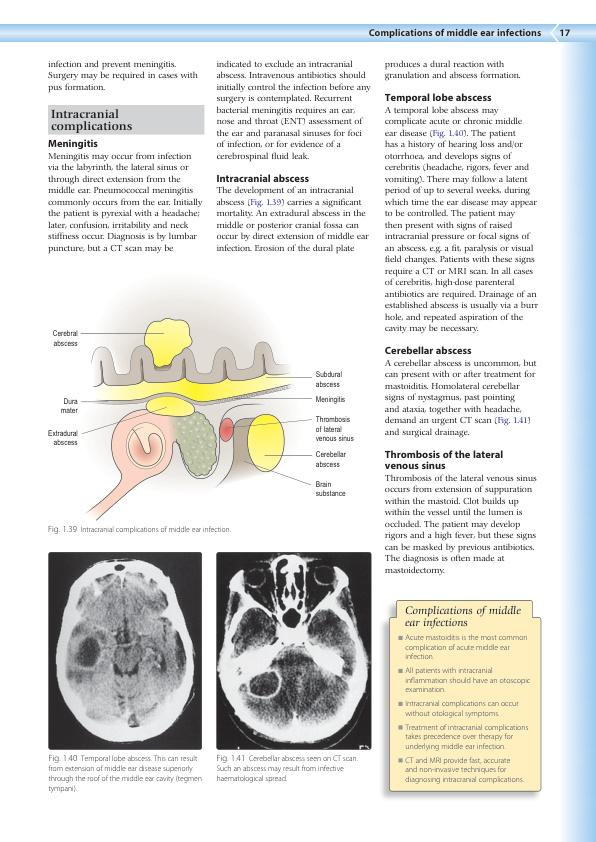caption: (47, 754, 203, 794), (216, 754, 359, 785), (404, 605, 522, 630), (47, 525, 232, 535)
header: (368, 28, 542, 40)
image: (41, 262, 365, 522), (47, 550, 204, 751), (215, 550, 372, 751)
list: (397, 634, 532, 786)
section-heading: (50, 108, 134, 134)
sub-section-heading: (384, 449, 503, 471), (384, 92, 493, 104), (216, 173, 310, 183), (384, 345, 473, 355), (47, 138, 99, 150)
text: (384, 105, 542, 335), (215, 59, 373, 163), (47, 152, 203, 255), (384, 473, 538, 577), (384, 358, 537, 439), (215, 185, 370, 255), (47, 58, 198, 94), (384, 59, 522, 83)
